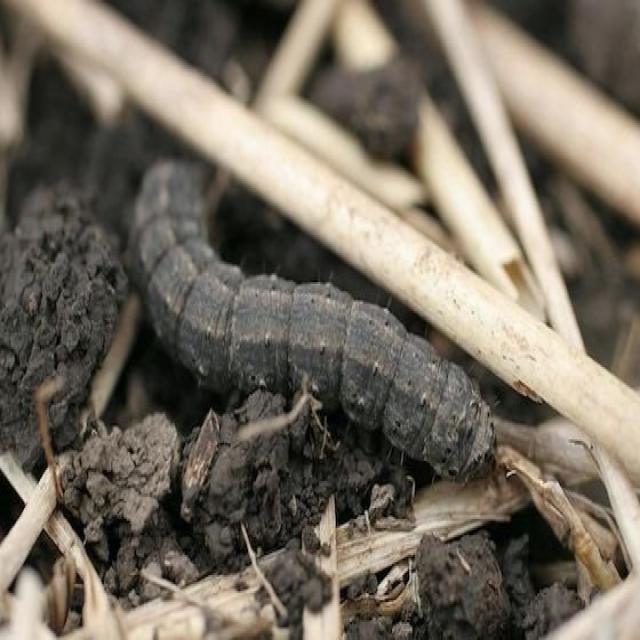Cutworm: (124, 151, 501, 488)
